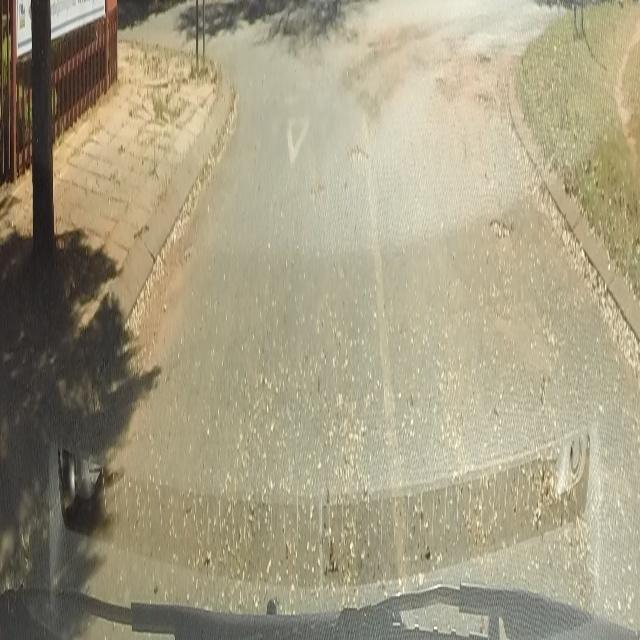pothole: (346, 140, 368, 172), (488, 212, 511, 239), (474, 86, 498, 103), (310, 175, 325, 202), (471, 49, 492, 66)
